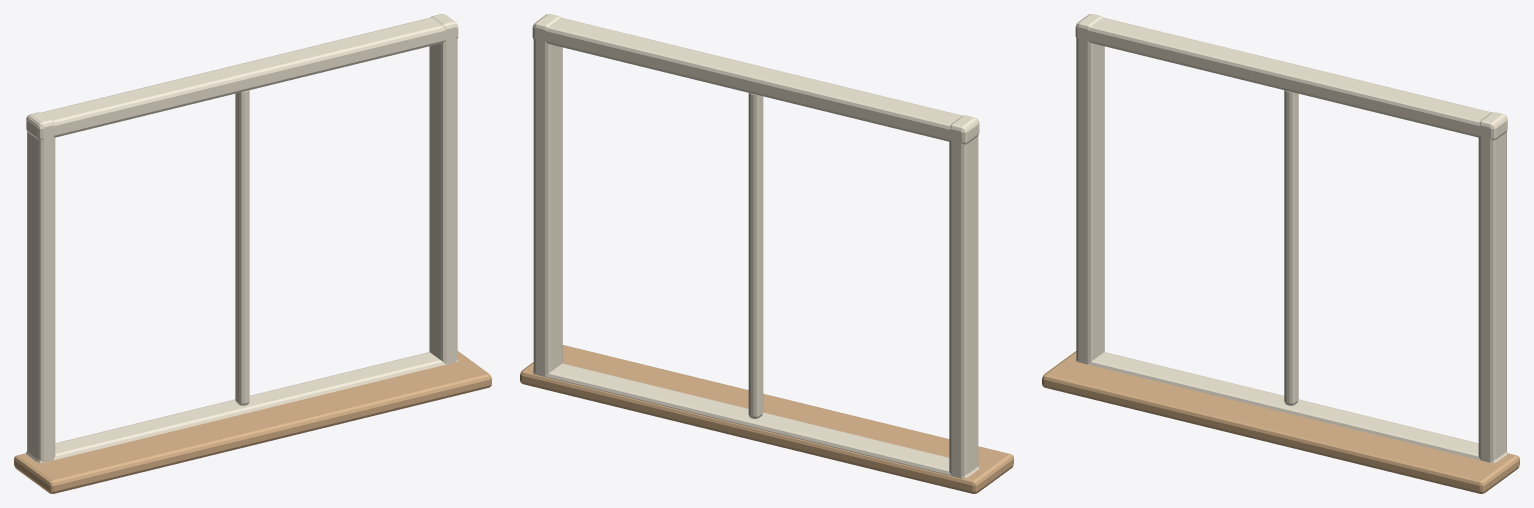
File: window_frame.glb
The picture shows the model from 3 angles, left to right: view 1: azimuth 30°, elevation 25°; view 2: azimuth 150°, elevation 25°; view 3: azimuth 330°, elevation 25°; orthographic projection. The views are drawn at different scales.
Visible parts, largest first — view 1: window_frame_Mesh; view 2: window_frame_Mesh; view 3: window_frame_Mesh.
Part boxes in pixels (left/top/right/bottom): window_frame_Mesh: left=14, top=14, right=491, bottom=493; window_frame_Mesh: left=520, top=14, right=1013, bottom=493; window_frame_Mesh: left=1042, top=14, right=1519, bottom=493.
Size of the model in its own units: 2.4 by 1.83 by 0.36.
